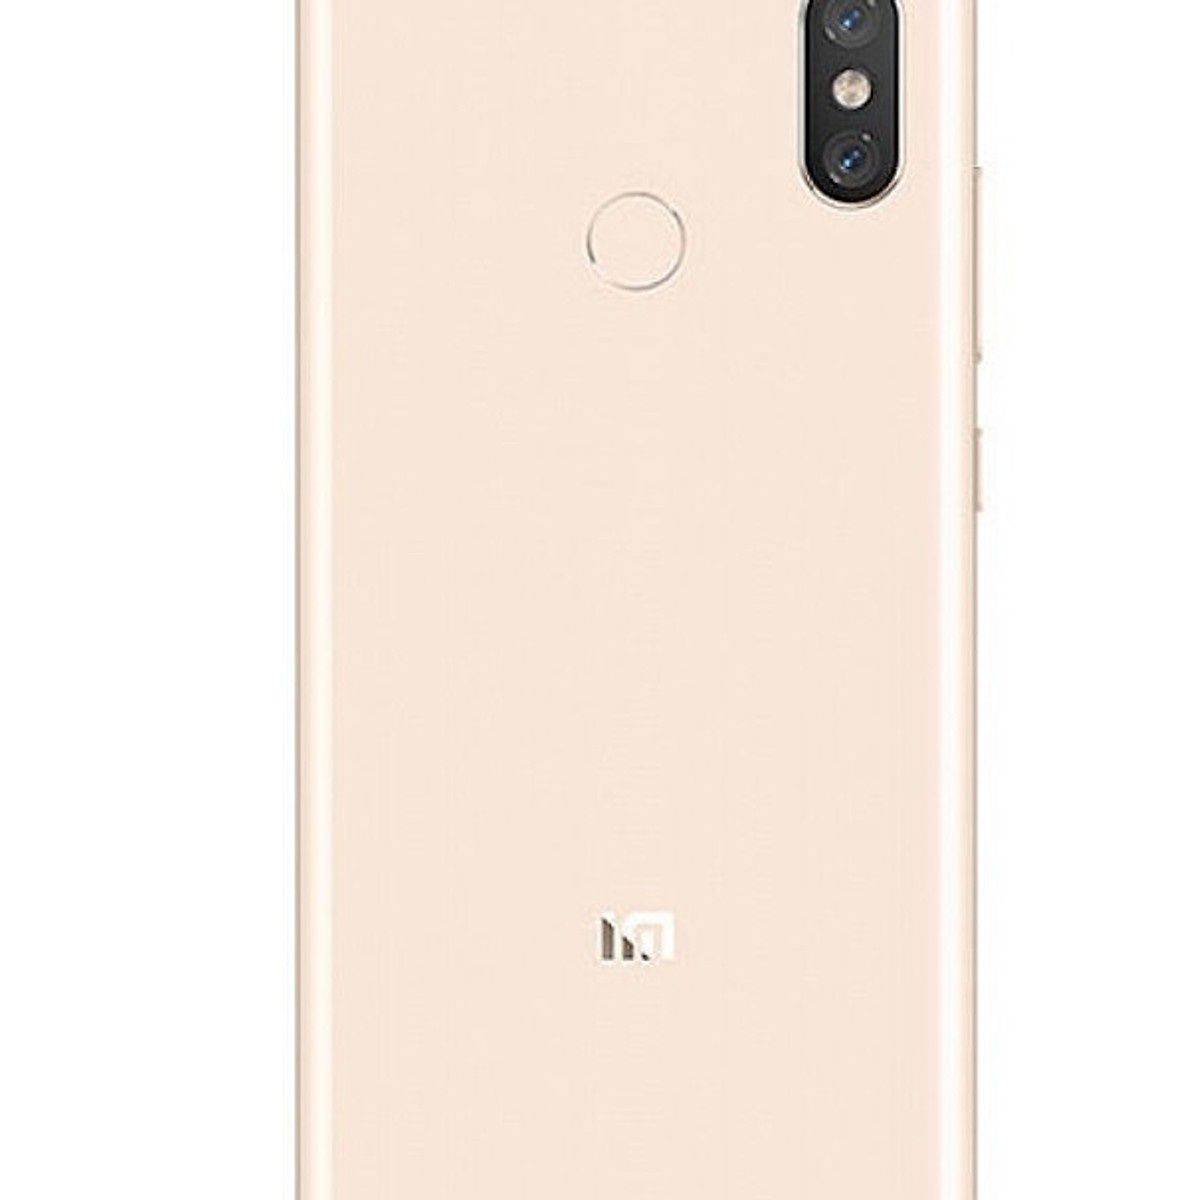Xiaomi: (462, 804, 849, 1047)
